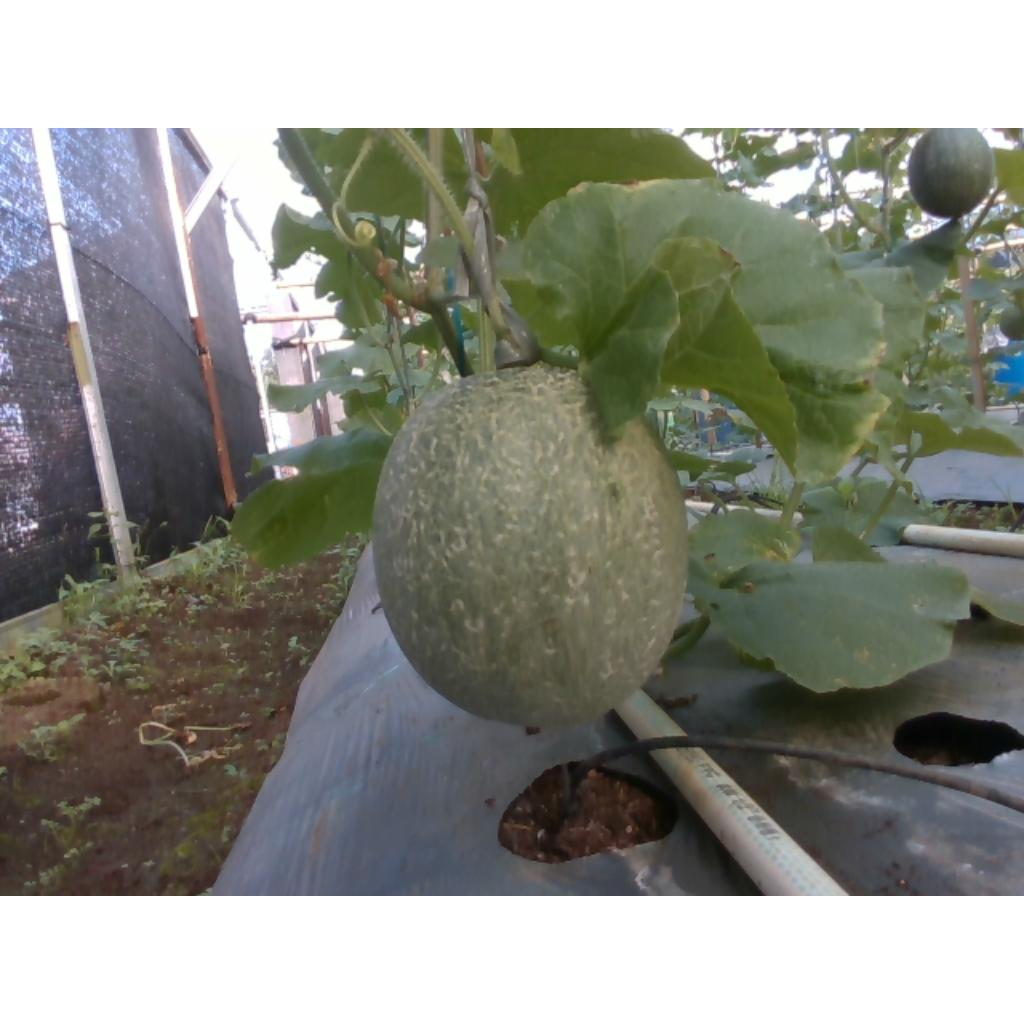melon: (374, 366, 690, 727)
